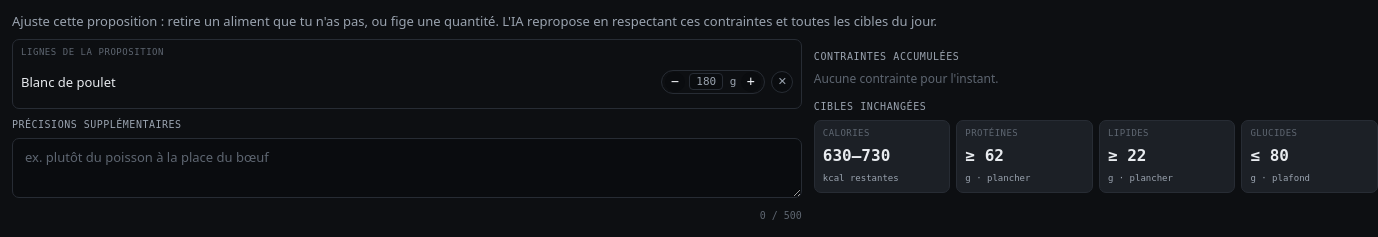
Test: RefinePanel — direct quantity entry (RF-1 / B-136) › the − stepper still steps from the typed value
Replace the text in the field named "Quantité" with "250" at [706, 82], box [689, 73, 723, 90]
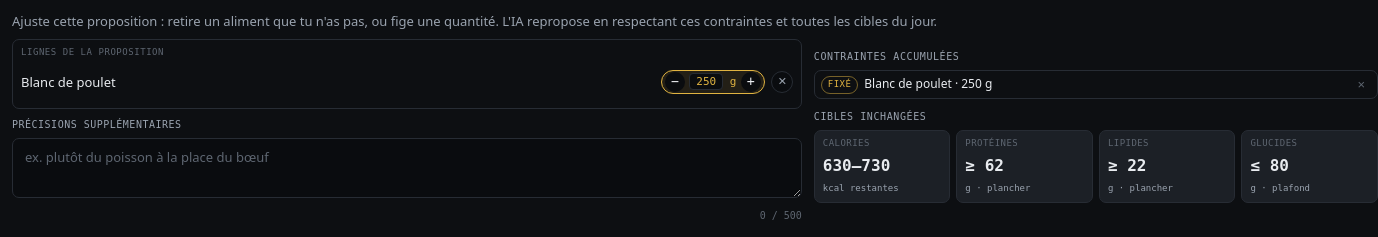
Click the button "−" at [675, 82], box [665, 72, 685, 92]
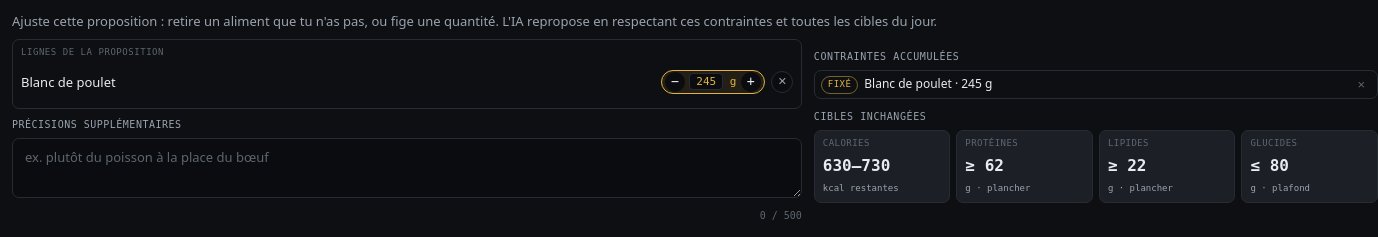
Check: the field named "Quantité" holds "245", box [689, 73, 723, 90]
